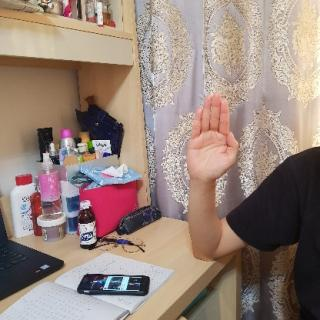SEEN: (183, 90, 242, 194)
